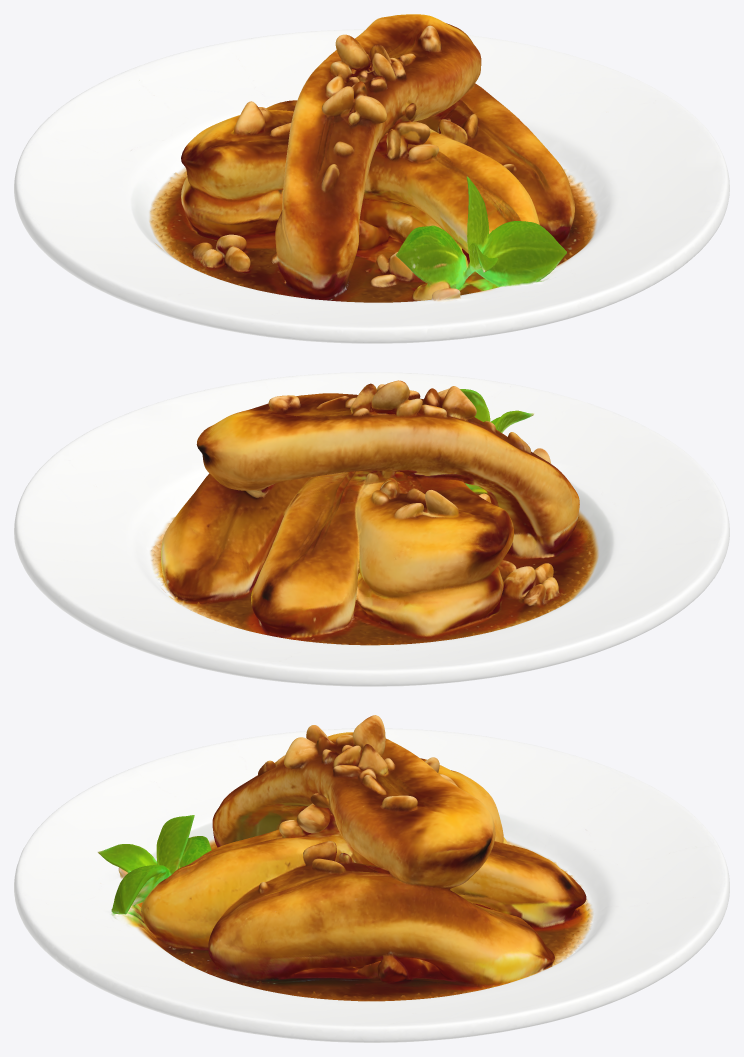
Rendered from Bananes Flambées.glb.
3 renders of one model, top to bottom at view 1: azimuth 30°, elevation 25°; view 2: azimuth 150°, elevation 25°; view 3: azimuth 270°, elevation 25°, orthographic.
Parts seen in each view (by area): view 1: Mesh_0; view 2: Mesh_0; view 3: Mesh_0.
Boxes of the visible parts, x1=… form: Mesh_0: x1=14, y1=14, x2=729, y2=343; Mesh_0: x1=14, y1=372, x2=729, y2=686; Mesh_0: x1=14, y1=715, x2=729, y2=1042.
Bounding box in the file's own units: 0.12 × 0.04 × 0.12.
Materials: 1 (1 with a texture image).
